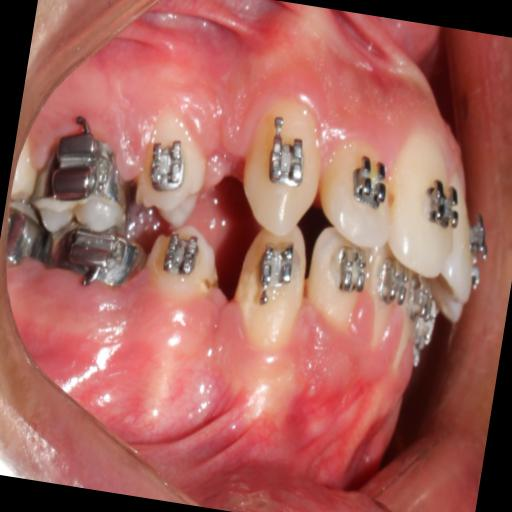correct_brace: (132, 104, 213, 226), (140, 219, 224, 310), (262, 124, 311, 194), (345, 152, 392, 208), (256, 235, 300, 292), (158, 225, 202, 281), (423, 174, 463, 234)
incorrect_brace: (314, 144, 393, 247), (144, 134, 188, 198)
